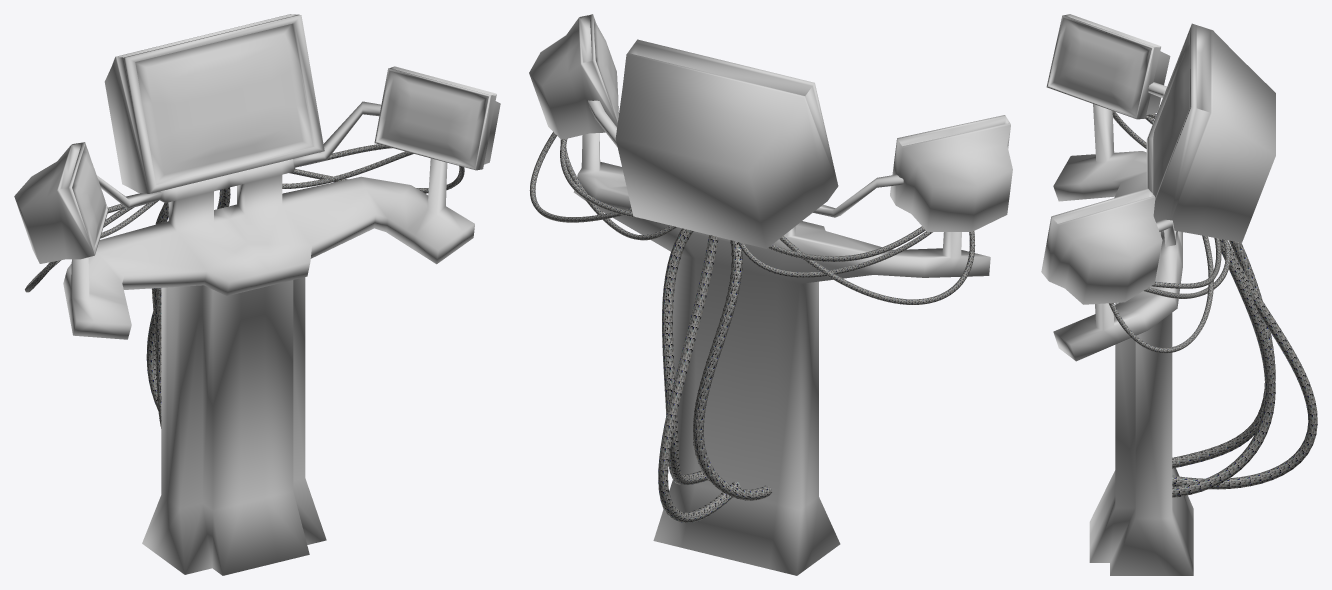
Rendered from komp.fbx.
3 renders of one model, left to right at view 1: azimuth 30°, elevation 25°; view 2: azimuth 150°, elevation 25°; view 3: azimuth 270°, elevation 25°, orthographic. The views are drawn at different scales.
Visible parts, largest first — view 1: Cube; view 2: Cube; view 3: Cube.
Boxes of the visible parts, x1,y1,x2,y2 form: Cube: (14,14,500,575); Cube: (529,14,1012,575); Cube: (1041,14,1317,575).
Bounding box in the file's own units: 6.19 × 6.14 × 3.22.
